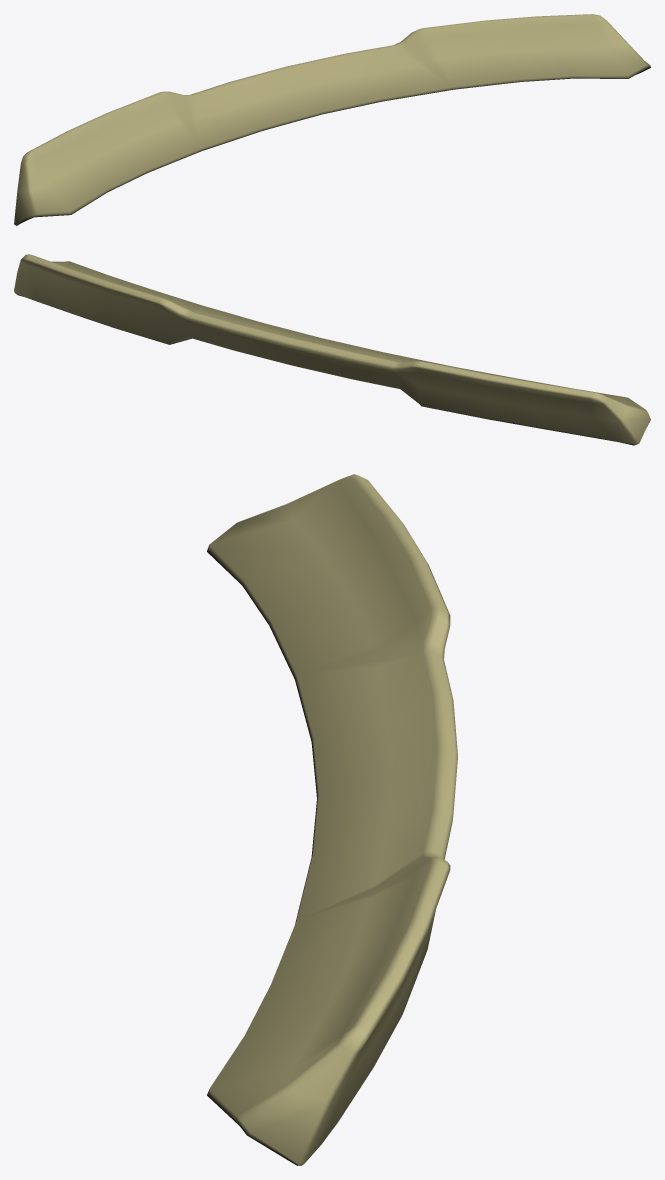
File: Mustang16_Spoiler_03_Duco.fbx
3 renders of one model, top to bottom at view 1: azimuth 30°, elevation 25°; view 2: azimuth 150°, elevation 25°; view 3: azimuth 270°, elevation 25°, orthographic. The views are drawn at different scales.
Visible parts, largest first — view 1: Mustang16_Spoiler_03_Duco; view 2: Mustang16_Spoiler_03_Duco; view 3: Mustang16_Spoiler_03_Duco.
Boxes of the visible parts, left/top/right/bottom form: Mustang16_Spoiler_03_Duco: left=14, top=14, right=650, bottom=225; Mustang16_Spoiler_03_Duco: left=14, top=254, right=650, bottom=445; Mustang16_Spoiler_03_Duco: left=207, top=474, right=457, bottom=1165.
Bounding box in the file's own units: 149 × 14.8 × 25.86.
